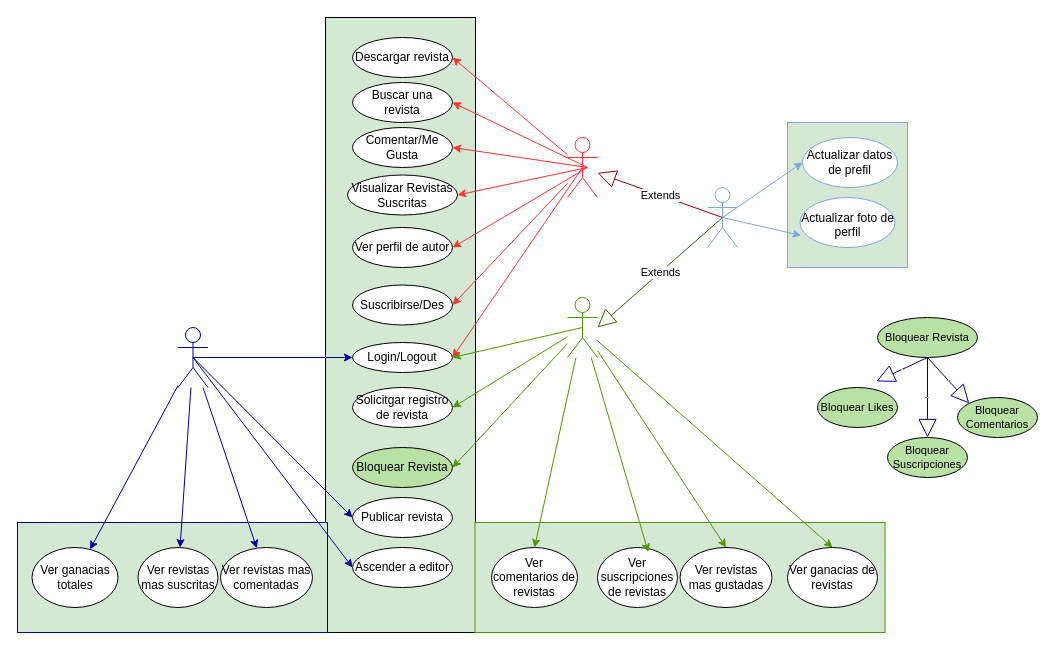
Some shapes in this 1055 by 650 pixel diagram are drawn without their labels. Here are the shapes that lost their labels. From the top down, the centre of each, then its label:
At point (582, 167): "Suscritor".
At point (722, 217): "Usuario".
At point (582, 327): "Editador".
At point (192, 357): "Administrador".
